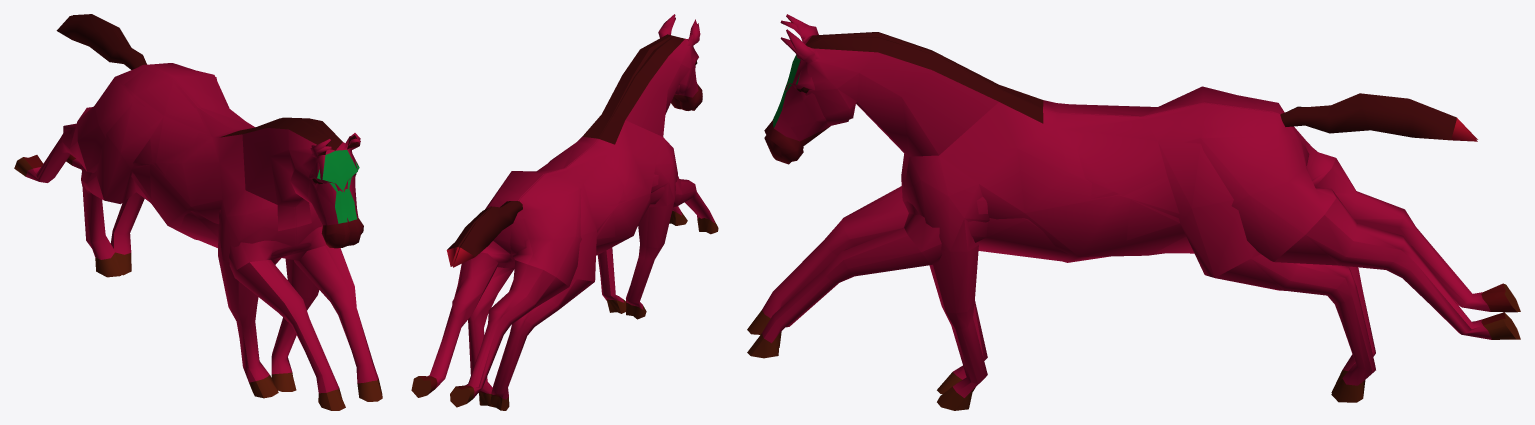
The model's file is Horse3.fbx.
3 views of the same model, side by side, from view 1: azimuth 30°, elevation 25°; view 2: azimuth 150°, elevation 25°; view 3: azimuth 270°, elevation 25° (orthographic). The views are drawn at different scales.
Parts seen in each view (by area): view 1: Mesh_0.002, Mesh_0.001; view 2: Mesh_0.002, Mesh_0.001; view 3: Mesh_0.001, Mesh_0.002.
Boxes of the visible parts, <box> form: Mesh_0.002: <box>14,14,382,401</box>; Mesh_0.001: <box>66,14,360,410</box>; Mesh_0.002: <box>450,17,699,407</box>; Mesh_0.001: <box>411,14,718,410</box>; Mesh_0.001: <box>747,20,1520,410</box>; Mesh_0.002: <box>747,14,1520,402</box>.
Bounding box in the file's own units: 398 × 892 × 1657.
